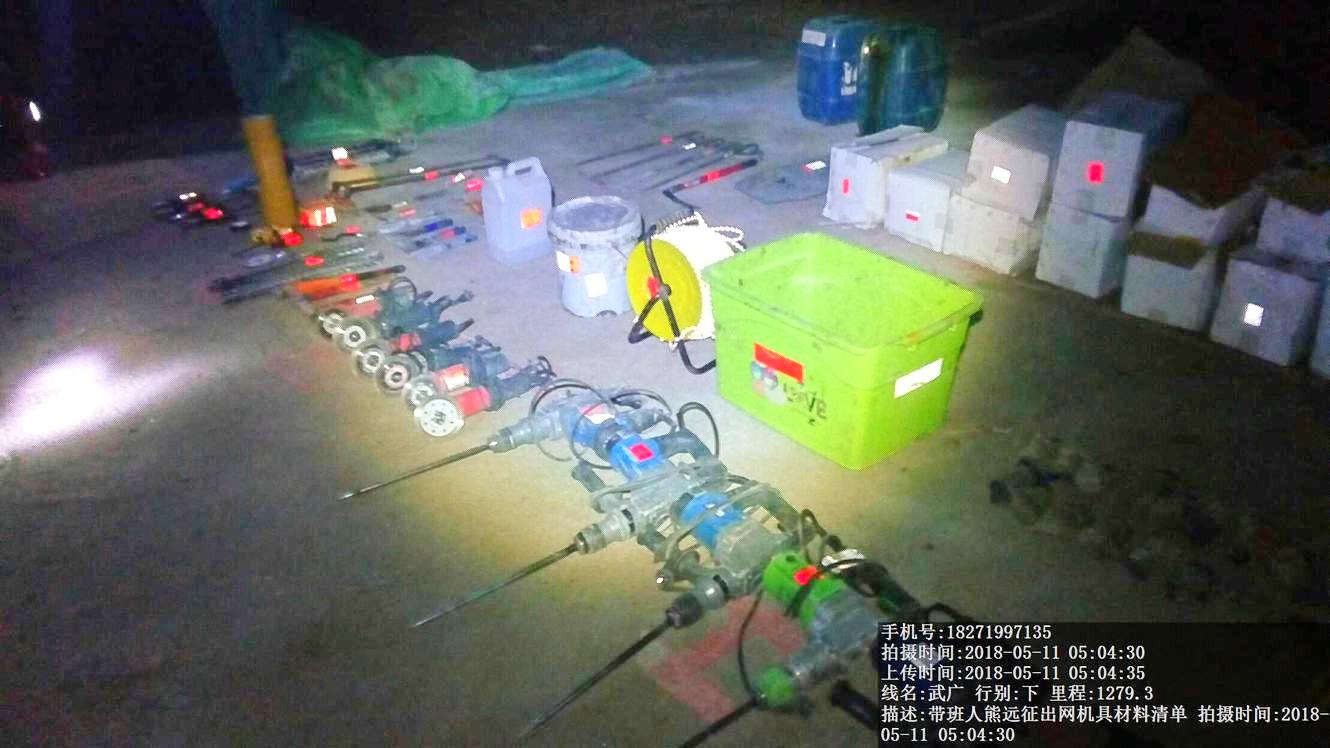DZ: (759, 548, 881, 703), (667, 482, 808, 610), (500, 381, 655, 473)
T: (702, 229, 968, 472)
